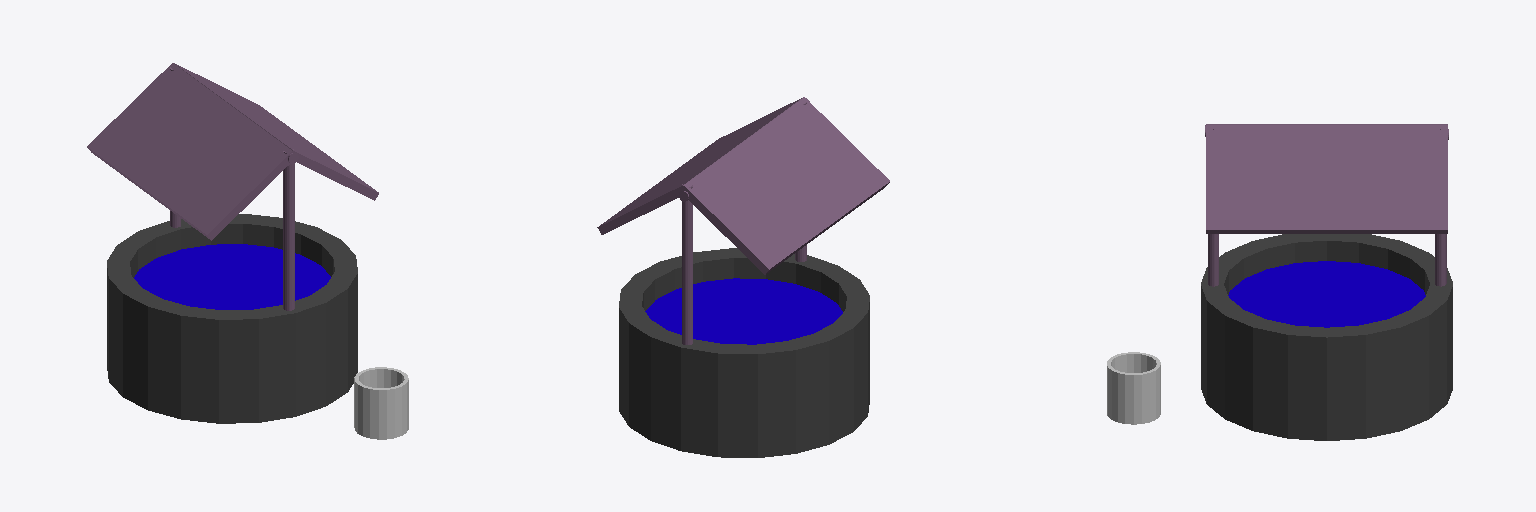
The model's file is Shadow_Valley_Brunnen.obj.
3 renders of one model, left to right at view 1: azimuth 30°, elevation 25°; view 2: azimuth 150°, elevation 25°; view 3: azimuth 270°, elevation 25°, orthographic.
Visible parts, largest first — view 1: Brunnen, Brunnendach, Wasser, Eimer; view 2: Brunnen, Brunnendach, Wasser; view 3: Brunnen, Brunnendach, Wasser, Eimer.
Boxes of the visible parts, x1=… form: Brunnen: x1=107, y1=214, x2=357, y2=423; Brunnendach: x1=87, y1=63, x2=378, y2=310; Wasser: x1=134, y1=244, x2=330, y2=309; Eimer: x1=354, y1=367, x2=408, y2=439; Brunnen: x1=619, y1=248, x2=869, y2=457; Brunnendach: x1=597, y1=97, x2=889, y2=344; Wasser: x1=645, y1=278, x2=842, y2=344; Brunnen: x1=1201, y1=234, x2=1452, y2=440; Brunnendach: x1=1205, y1=124, x2=1448, y2=286; Wasser: x1=1228, y1=261, x2=1425, y2=327; Eimer: x1=1107, y1=352, x2=1160, y2=424.
Bounding box in the file's own units: 4.41 × 5.08 × 6.06.